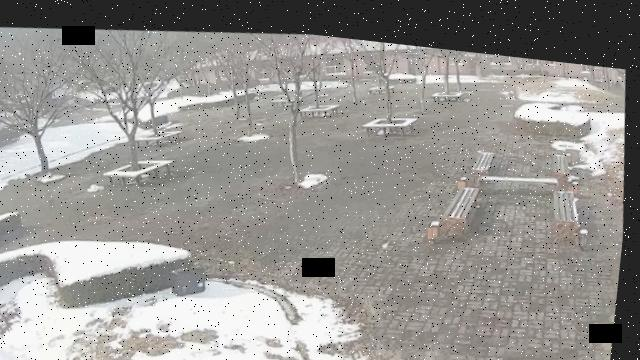bag: (175, 257, 214, 294)
